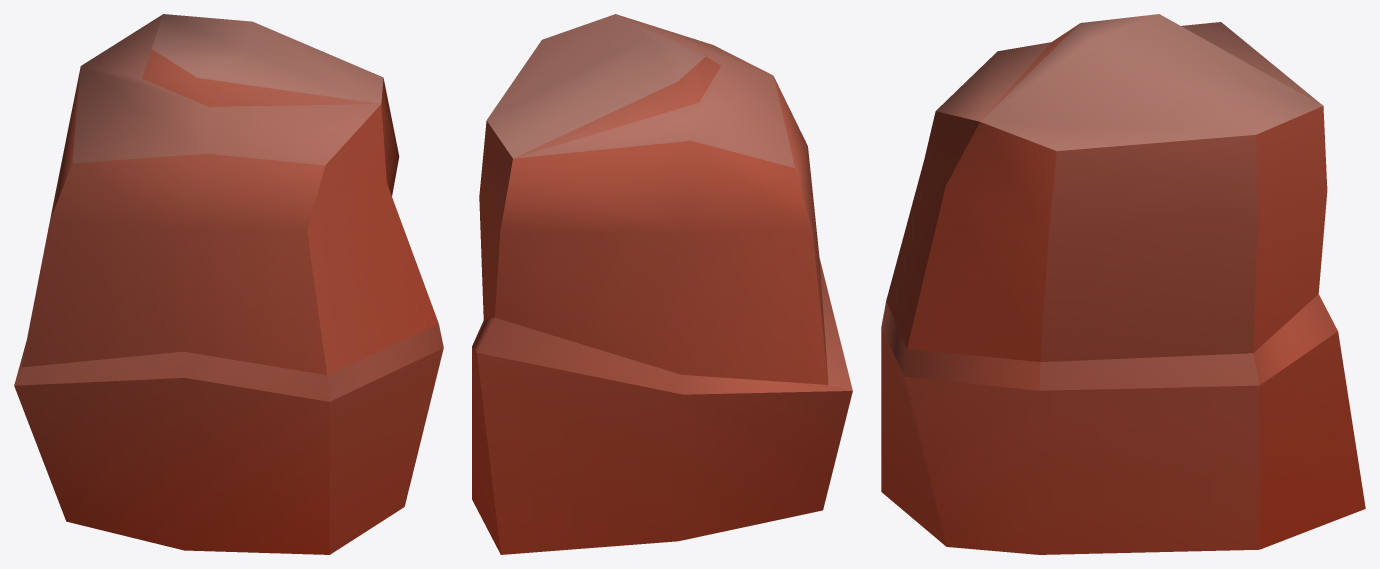
File: stone_1.fbx
3 views of the same model, side by side, from view 1: azimuth 30°, elevation 25°; view 2: azimuth 150°, elevation 25°; view 3: azimuth 270°, elevation 25° (orthographic). The views are drawn at different scales.
Parts seen in each view (by area): view 1: undead_mine_stone_01; view 2: undead_mine_stone_01; view 3: undead_mine_stone_01.
Part boxes in pixels (left/top/right/bottom): undead_mine_stone_01: left=14, top=14, right=443, bottom=554; undead_mine_stone_01: left=472, top=14, right=852, bottom=554; undead_mine_stone_01: left=881, top=14, right=1365, bottom=554.
Bounding box in the file's own units: 478 × 532 × 556.
1 material, 1 textured.
